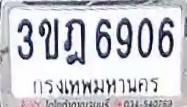0: (137, 17, 153, 57)
3: (16, 18, 34, 60)
6: (157, 17, 174, 57), (95, 18, 111, 58)
9: (116, 17, 132, 58)
A02: (38, 18, 58, 59)
A14: (62, 18, 86, 64)
BKK: (29, 74, 163, 98)
